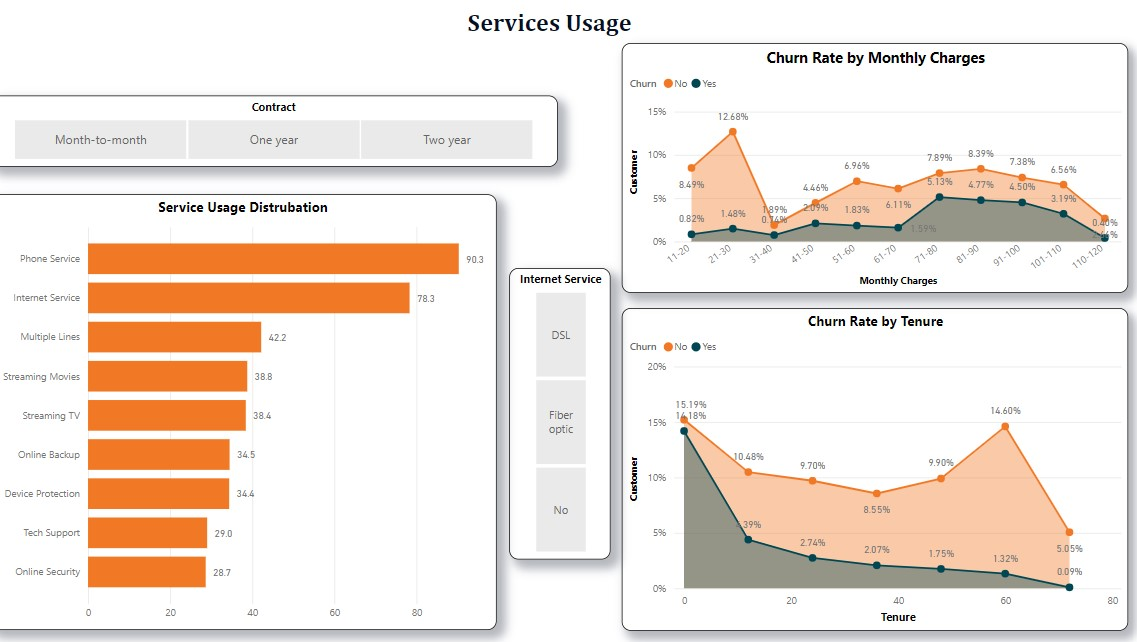

The dashboard page shown, as its layout file describes it:
{"tool":"powerbi","page":{"name":"Page 2","canvas":[1280,720],"ordinal":1},"visuals":[{"type":"textbox","box":[521.4,11.4,212.9,52.9],"z":0},{"type":"lineChart","title":"Churn Rate by Tenure","fields":{"Category":["Telco_Churn.Tenure (bins)"],"Y":["CountNonNull(Telco_Churn.Customer_ID)"],"Series":["Telco_Churn.Churn"]},"box":[695.7,345.7,555.7,354.3],"z":1000},{"type":"lineChart","title":"Churn Rate by Monthly Charges","fields":{"Category":["Telco_Churn.Monthly_charges_Bin"],"Y":["CountNonNull(Telco_Churn.Customer_ID)"],"Series":["Telco_Churn.Churn"]},"box":[695.7,54.3,555.7,274.3],"z":2000},{"type":"slicer","title":"Contract","fields":{"Values":["Telco_Churn.Contract"]},"box":[0,112.9,625.7,78.6],"z":3000},{"type":"slicer","title":"Internet Service","fields":{"Values":["Telco_Churn.Internet_Service"]},"box":[572.9,301.4,111.4,320],"z":4000},{"type":"clusteredBarChart","title":"Service Usage Distrubation","fields":{"Category":["Service_count.Service"],"Y":["Sum(Service_count.Service_count)"]},"box":[0,221.4,558.6,478.6],"z":5000}]}

Visuals, with their boxes in screenshot pixels (x1, y1, x2, y2), scaled from the page's 1280x720 canvas onto the 1137x642 screenshot:
textbox: <bbox>463, 10, 652, 57</bbox>
"Churn Rate by Tenure" lineChart: <bbox>618, 308, 1112, 624</bbox>
"Churn Rate by Monthly Charges" lineChart: <bbox>618, 48, 1112, 293</bbox>
"Contract" slicer: <bbox>0, 101, 556, 171</bbox>
"Internet Service" slicer: <bbox>509, 269, 608, 554</bbox>
"Service Usage Distrubation" clusteredBarChart: <bbox>0, 197, 496, 624</bbox>
